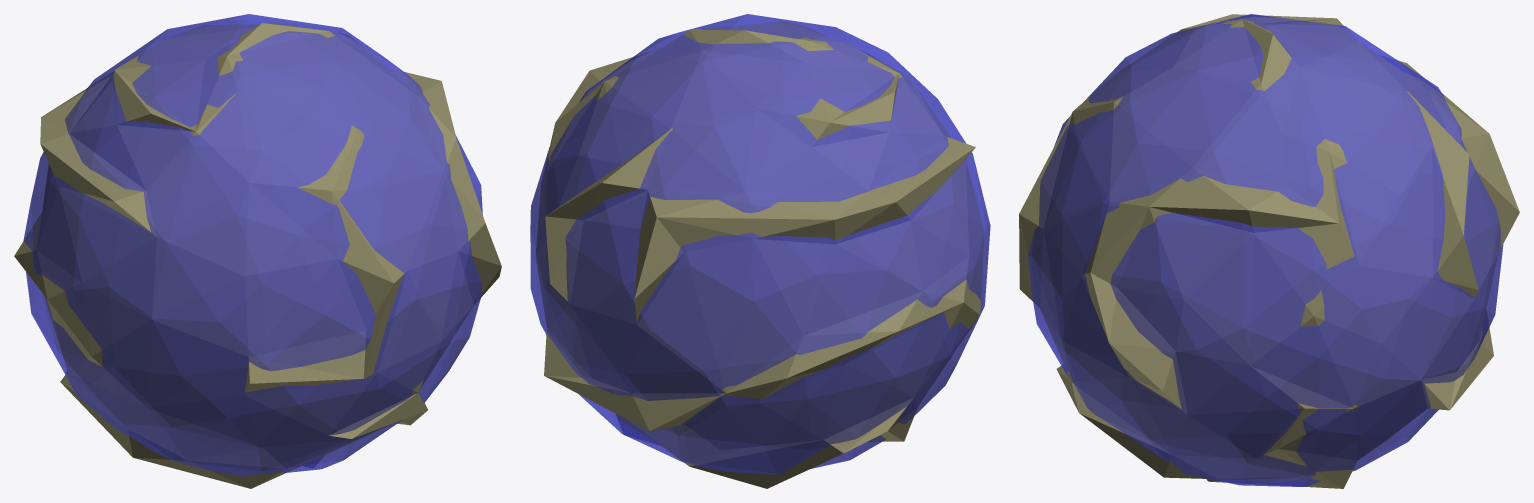
Rendered from water_planet4.fbx.
3 renders of one model, left to right at view 1: azimuth 30°, elevation 25°; view 2: azimuth 150°, elevation 25°; view 3: azimuth 270°, elevation 25°, orthographic. The views are drawn at different scales.
Visible parts, largest first — view 1: water_planet4; view 2: water_planet4; view 3: water_planet4.
Boxes of the visible parts, <box> form: water_planet4: <box>14,14,501,488</box>; water_planet4: <box>530,14,990,488</box>; water_planet4: <box>1019,14,1519,488</box>.
Size of the model in its own units: 193 by 197 by 201.
